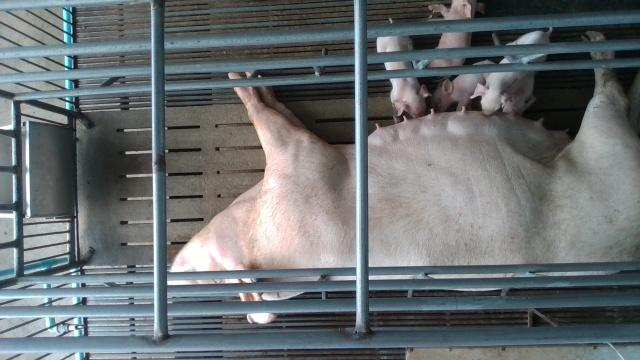piglet: (474, 28, 553, 117), (378, 17, 432, 118), (427, 0, 485, 65), (432, 58, 493, 115)
sow-sleep-lactate: (168, 31, 640, 323)
